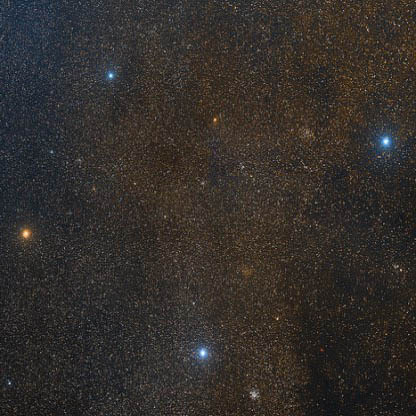Southern Cross: (14, 218, 56, 253), (366, 123, 398, 165), (186, 333, 219, 366), (99, 65, 126, 91)
